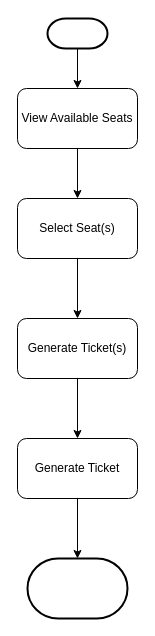
This 155x636 diagram has some shape labels left out. Each missing label, with the centre of its shape:
Proceeds to Payment: the point at 77,588
Start: the point at 77,33
